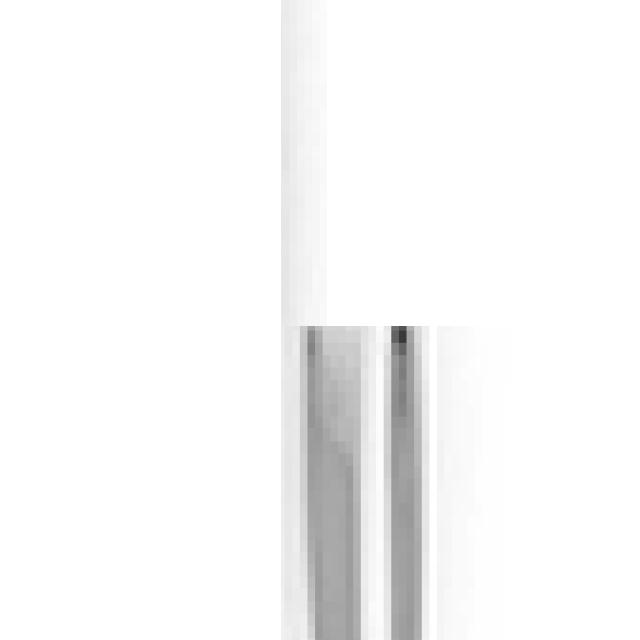forks: (327, 0, 640, 326), (281, 326, 436, 640)
